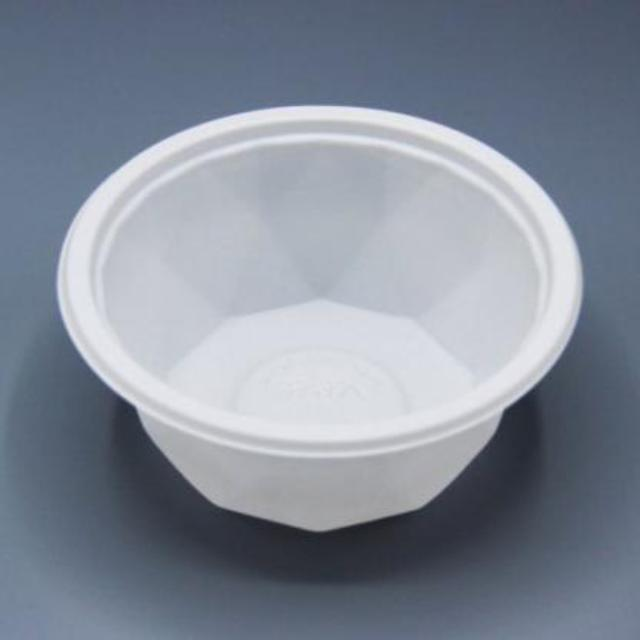plastic_box: (53, 105, 583, 538)
